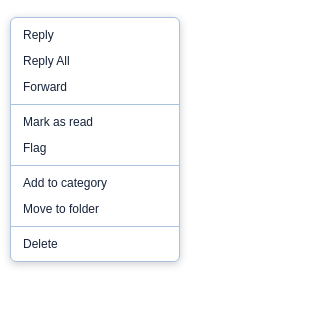
MessageContextMenu › 040 AC3: Move to folder expands into a list of the available folders
The width and height of the screenshot is (320, 336).
Check: the menu item "Archive" is not shown
Click the menu item "Move to folder": (95, 209) [11, 196, 179, 222]
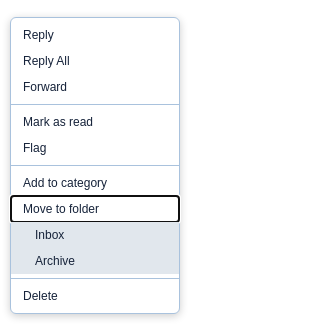
Check: the menu item "Inbox" is shown, box [11, 222, 179, 248]
Check: the menu item "Archive" is shown, box [11, 248, 179, 274]
